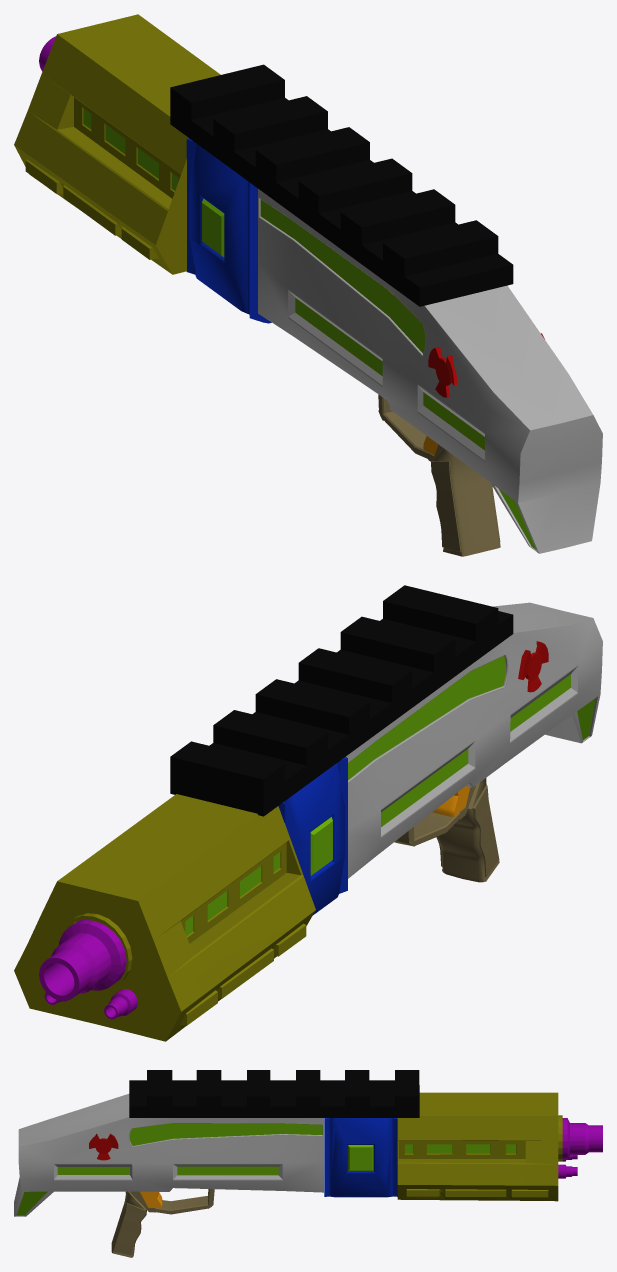
The model's file is shotgunSyFy004.fbx.
3 renders of one model, top to bottom at view 1: azimuth 30°, elevation 25°; view 2: azimuth 150°, elevation 25°; view 3: azimuth 270°, elevation 25°, orthographic. The views are drawn at different scales.
Parts seen in each view (by area): view 1: pCube1, pCube3, polySurface2, pCube2, pCube4, pCylinder1; view 2: polySurface2, pCube3, pCube1, pCube2, pCube4, pCylinder3, pCylinder1, pCylinder4; view 3: pCube1, polySurface2, pCube3, pCube2, pCube4, pCylinder3, pCylinder1, pCube6, pCylinder4.
Part boxes in pixels (x1,y1,x2,y2): pCube1: [258, 189, 602, 553]; pCube3: [170, 64, 513, 306]; polySurface2: [14, 14, 220, 274]; pCube2: [186, 138, 271, 323]; pCube4: [378, 394, 500, 556]; pCylinder1: [428, 333, 544, 397]; polySurface2: [14, 794, 315, 1041]; pCube3: [170, 585, 513, 816]; pCube1: [346, 602, 602, 878]; pCube2: [278, 756, 347, 914]; pCube4: [394, 778, 499, 882]; pCylinder3: [39, 920, 126, 1000]; pCylinder1: [518, 641, 548, 692]; pCylinder4: [44, 989, 137, 1019]; pCube1: [14, 1094, 323, 1216]; polySurface2: [397, 1092, 562, 1201]; pCube3: [129, 1070, 419, 1117]; pCube2: [324, 1118, 397, 1197]; pCube4: [111, 1189, 214, 1257]; pCylinder3: [562, 1118, 602, 1159]; pCylinder1: [89, 1133, 118, 1160]; pCube6: [140, 1191, 162, 1208]; pCylinder4: [558, 1155, 577, 1178].
Bounding box in the file's own units: 4.42 × 7.33 × 23.17.
